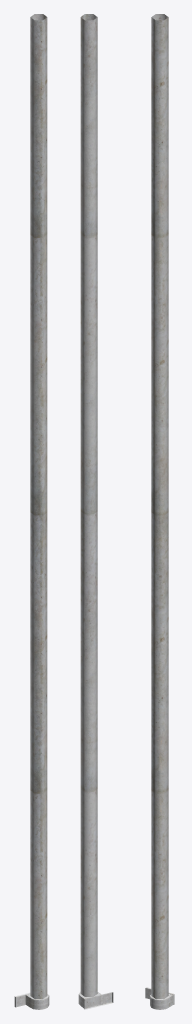
The model's file is SM_Wires_Pipes_01kk.glb.
3 renders of one model, left to right at view 1: azimuth 30°, elevation 25°; view 2: azimuth 210°, elevation 25°; view 3: azimuth 330°, elevation 25°, orthographic.
Visible parts, largest first — view 1: SM_Wires_Pipes_01kk; view 2: SM_Wires_Pipes_01kk; view 3: SM_Wires_Pipes_01kk.
Boxes of the visible parts, left/top/right/bottom form: SM_Wires_Pipes_01kk: left=14, top=14, right=49, bottom=1009; SM_Wires_Pipes_01kk: left=78, top=14, right=113, bottom=1009; SM_Wires_Pipes_01kk: left=145, top=14, right=174, bottom=1009.
Bounding box in the file's own units: 0.0605 × 2 × 0.0367.
Materials: 1 (1 with a texture image).
